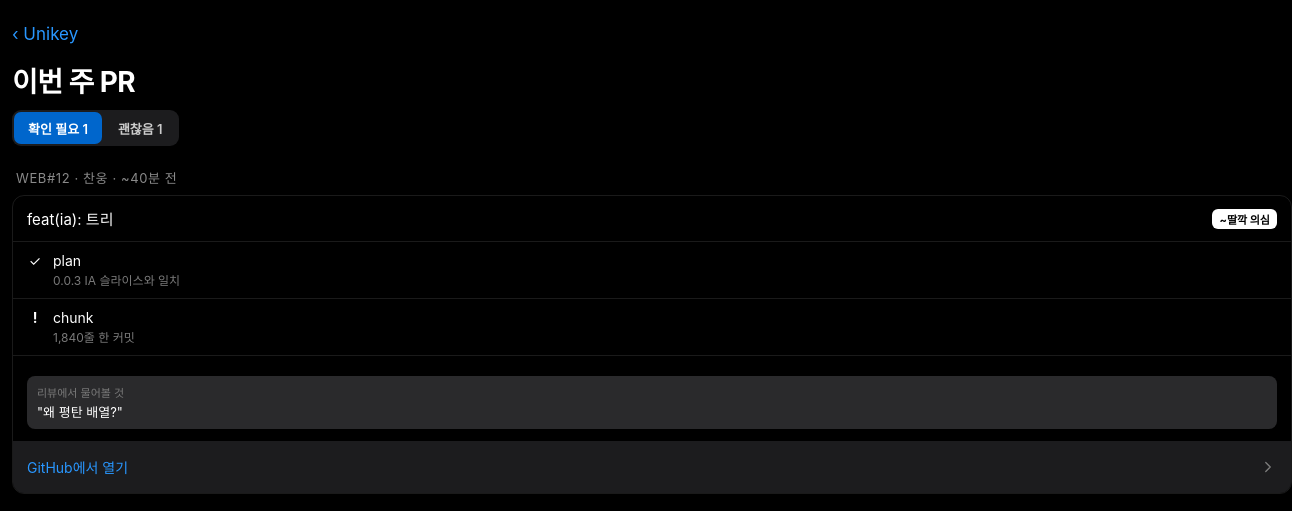
ProjectPrs › 확인 필요 먼저: 배지 · 신호 · 물어볼 것, 괜찮음은 세그먼트 뒤
Expected: the text "feat(ia): 트리" is shown, [27, 208, 114, 229]
Expected: the text "~딸깍 의심" is shown, [1212, 208, 1277, 228]
Click the tab "괜찮음 1". click: x=140, y=128
box: [104, 112, 177, 144]
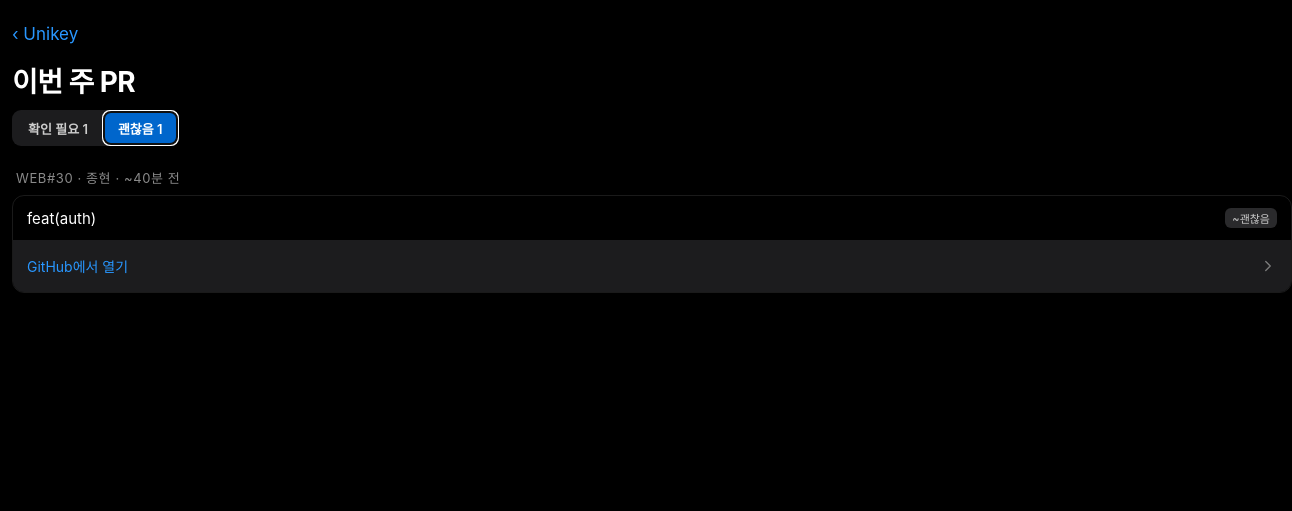
Expected: the text "feat(auth)" is shown, [27, 208, 96, 228]
